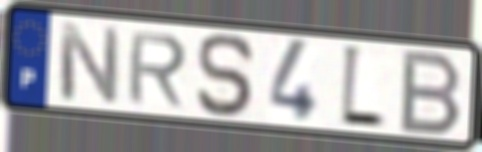4: (266, 34, 322, 129)
B: (396, 47, 465, 138)
L: (338, 40, 388, 134)
N: (55, 19, 122, 107)
R: (124, 29, 191, 109)
S: (194, 30, 258, 121)
